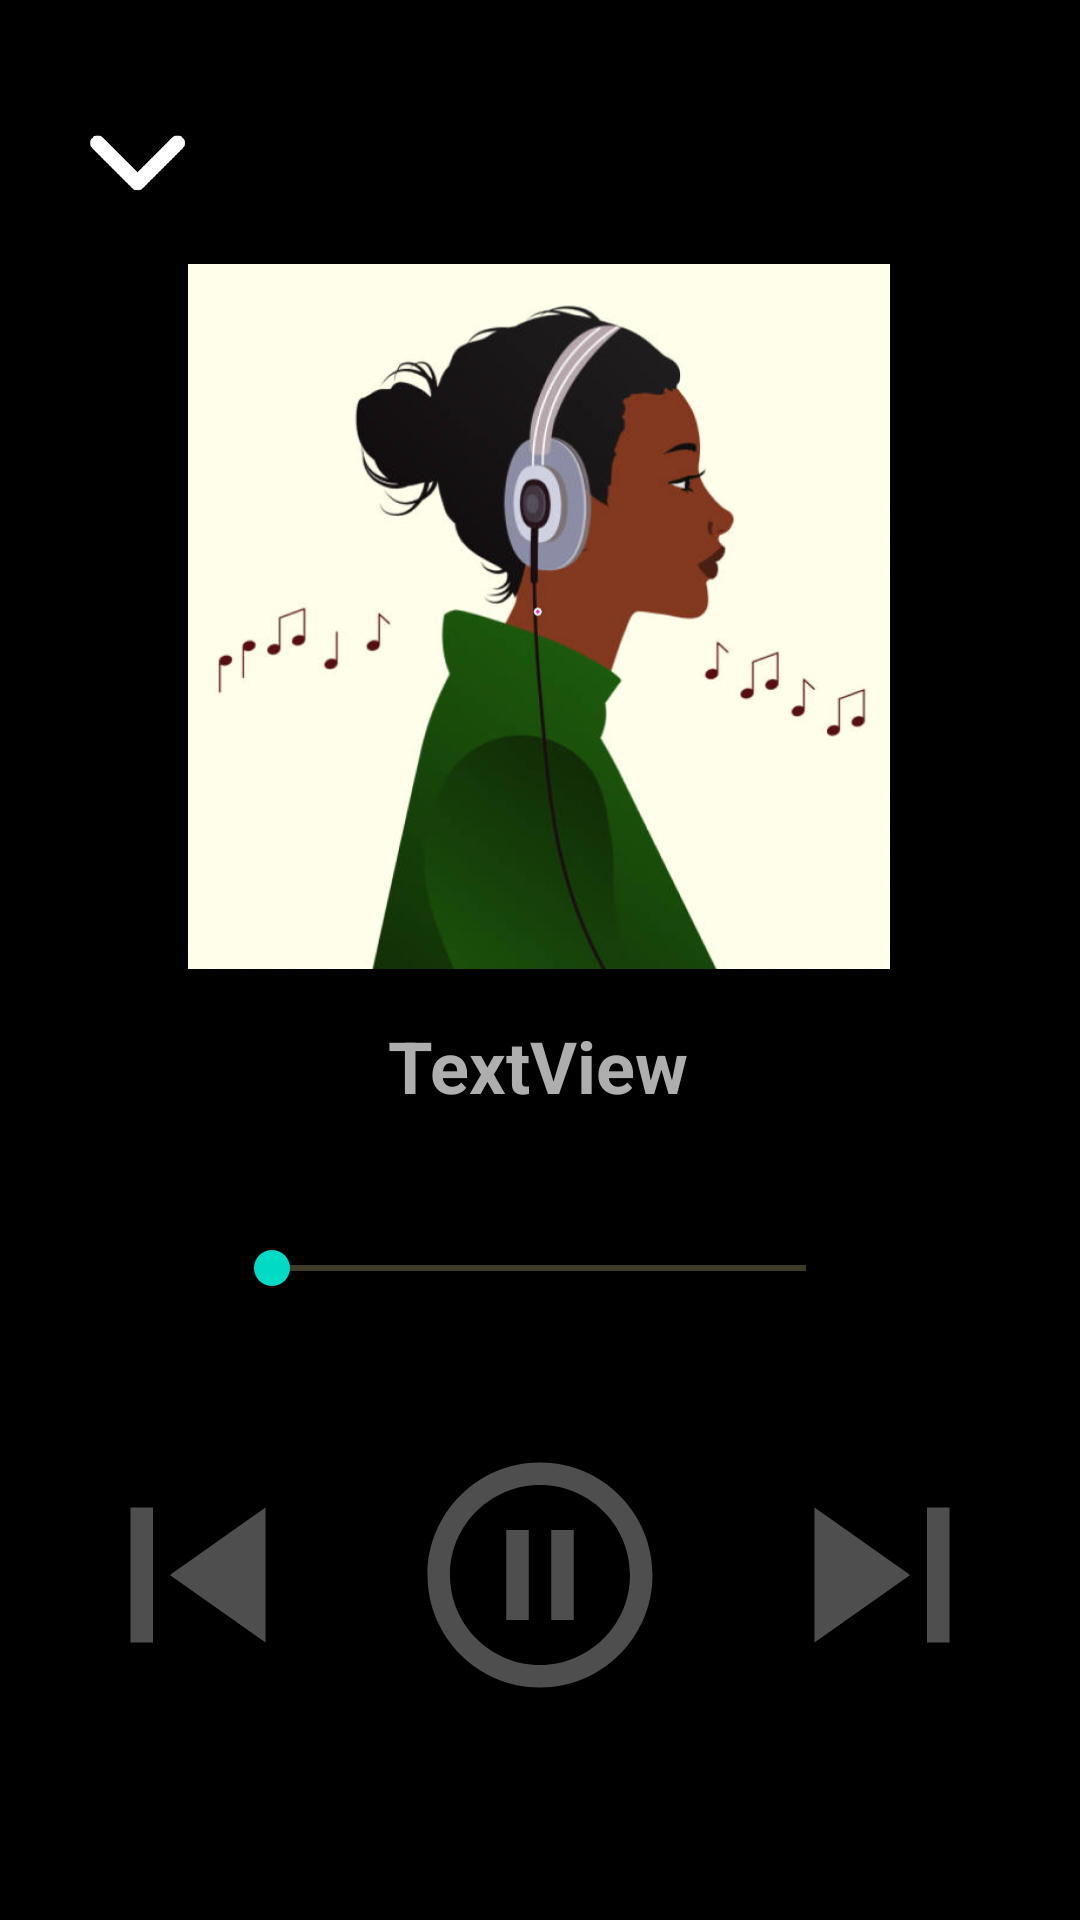

Icon click points for this 1080w x 1920h phone screenshot, format (x=x, y=y):
arrow: (x=137, y=162)
nexticon: (x=882, y=1575)
pauseicon: (x=540, y=1575)
previousicon: (x=198, y=1575)
